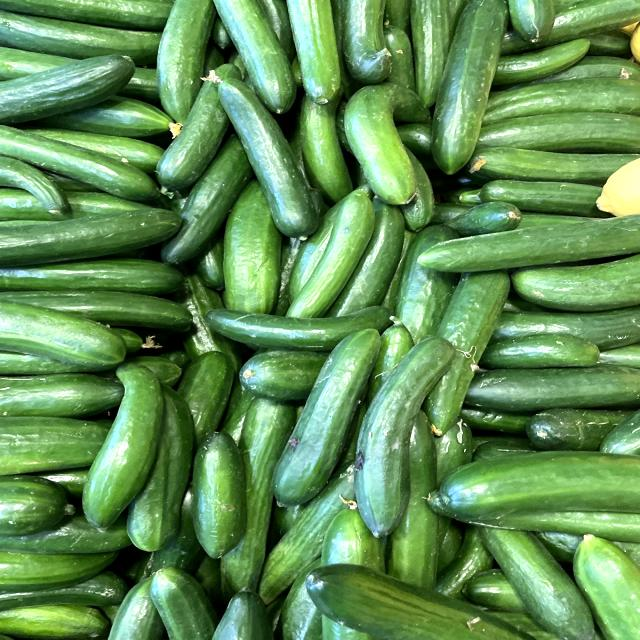cucumber: (316, 324, 477, 543), (253, 318, 399, 514), (191, 66, 329, 244), (71, 344, 188, 534)
